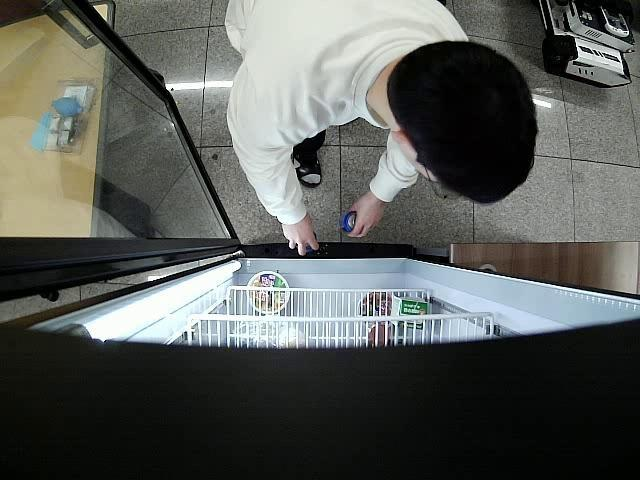13_pocariSweat: (341, 212, 356, 232), (305, 233, 316, 253)
